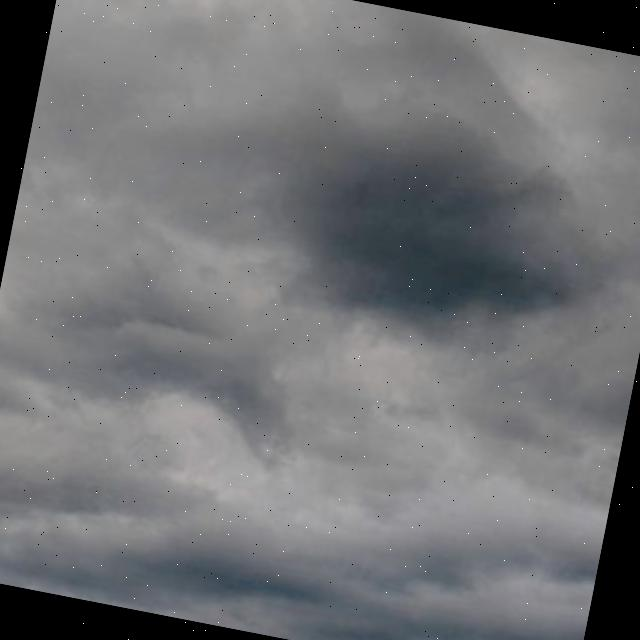As: (1, 1, 640, 619)
